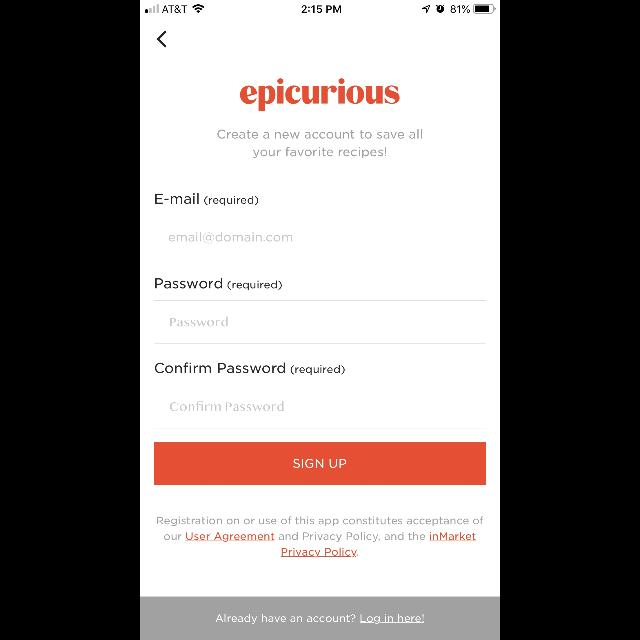icon: (157, 30, 167, 48)
input: (154, 301, 486, 344), (154, 217, 486, 260), (154, 386, 486, 428)
text: (157, 516, 483, 558), (218, 130, 422, 158), (240, 78, 400, 112), (156, 363, 344, 375), (156, 278, 282, 290), (170, 232, 292, 244), (156, 193, 258, 205), (170, 401, 284, 411), (170, 317, 228, 327)
textbutton: (140, 596, 500, 640), (154, 443, 486, 485)
uppertaskbar: (140, 0, 500, 14)
